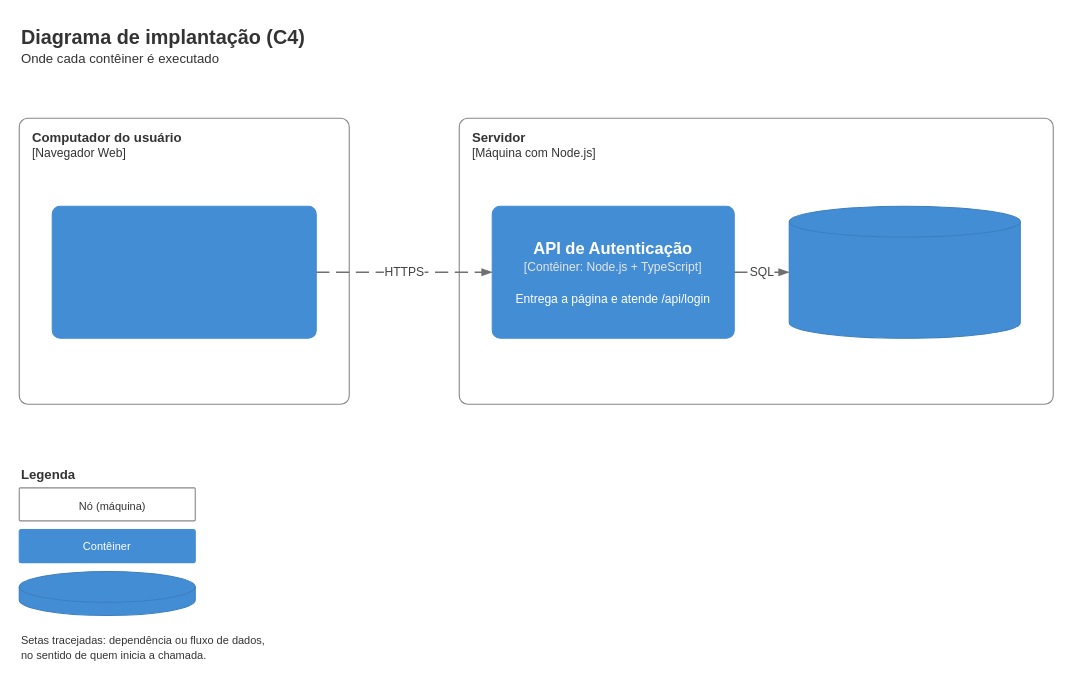
Some shapes in this 1073 by 682 pixel diagram are drawn without their labels. Each missing label, with the centre of its shape:
Aplicação Web [Contêiner: HTML + TypeScript]: the point at 183,271
Banco de dados: the point at 106,592
Banco de Dados [Contêiner: SQLite] Arquivo local no servidor: the point at 904,271
